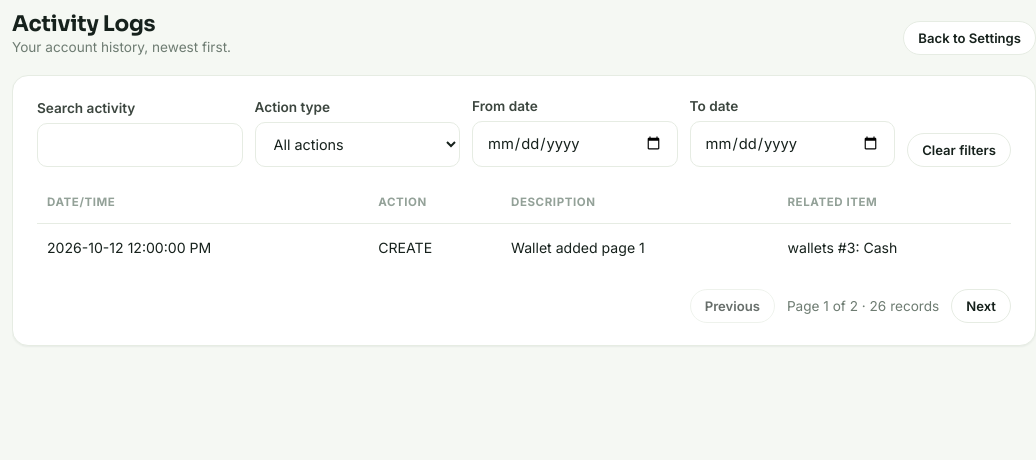
Test: displays complete activity records and requests server filters and pages
Expected: the text "Wallet added page 1" is shown, [501,223,778,271]
Expected: the text "wallets #3: Cash" is shown, [778,223,1011,271]
Click the button "Next": (981, 306) [951,289,1011,323]
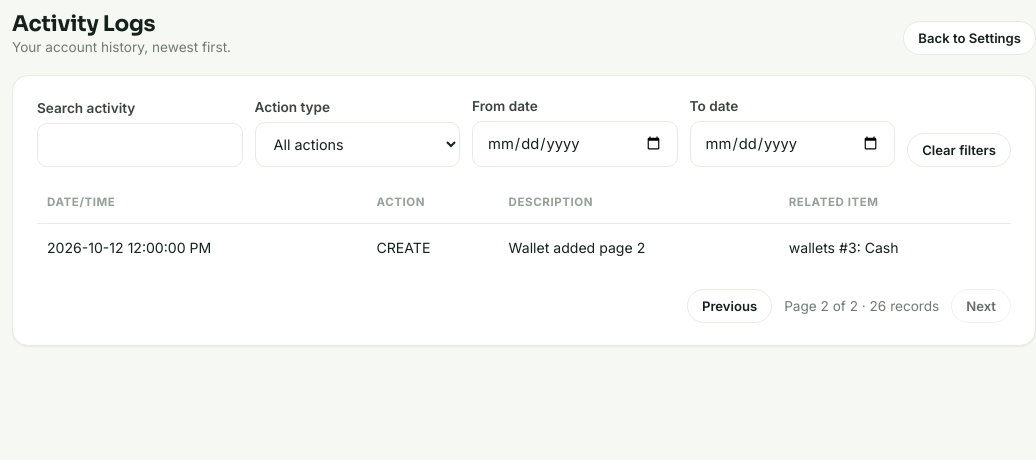
Now the text "Wallet added page 2" is shown, box [499,223,779,271]
Select "CREATE" in the dropdown labelled "Action type": (357, 144) [254,122,460,167]
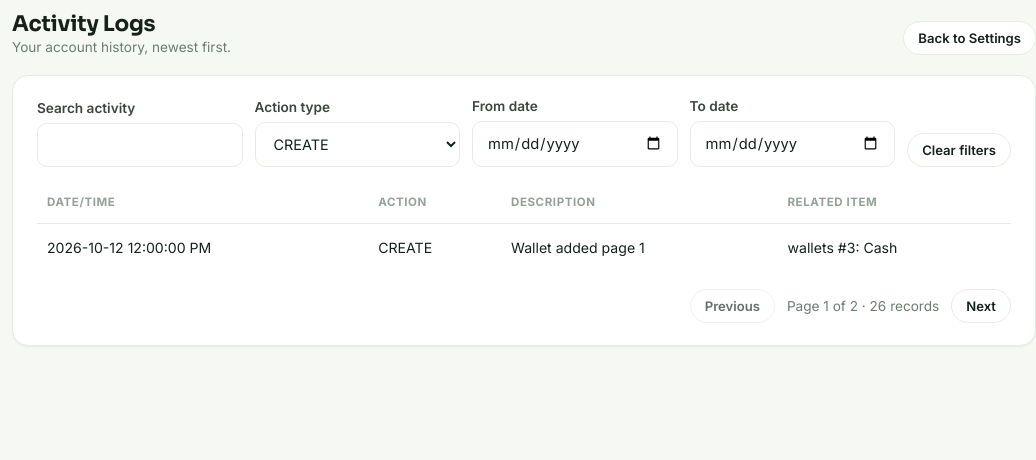
Now the text "Wallet added page 1" is shown, box [501,223,778,271]
In the search field labelled "Search activity": (140, 145) [37,123,242,167], type "absent"
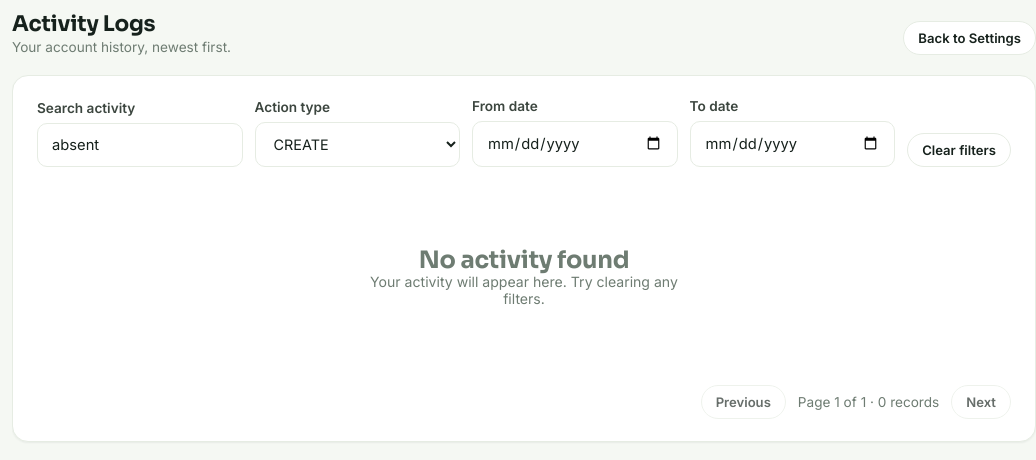
Now the heading "No activity found" is shown, box [419,245,629,275]
